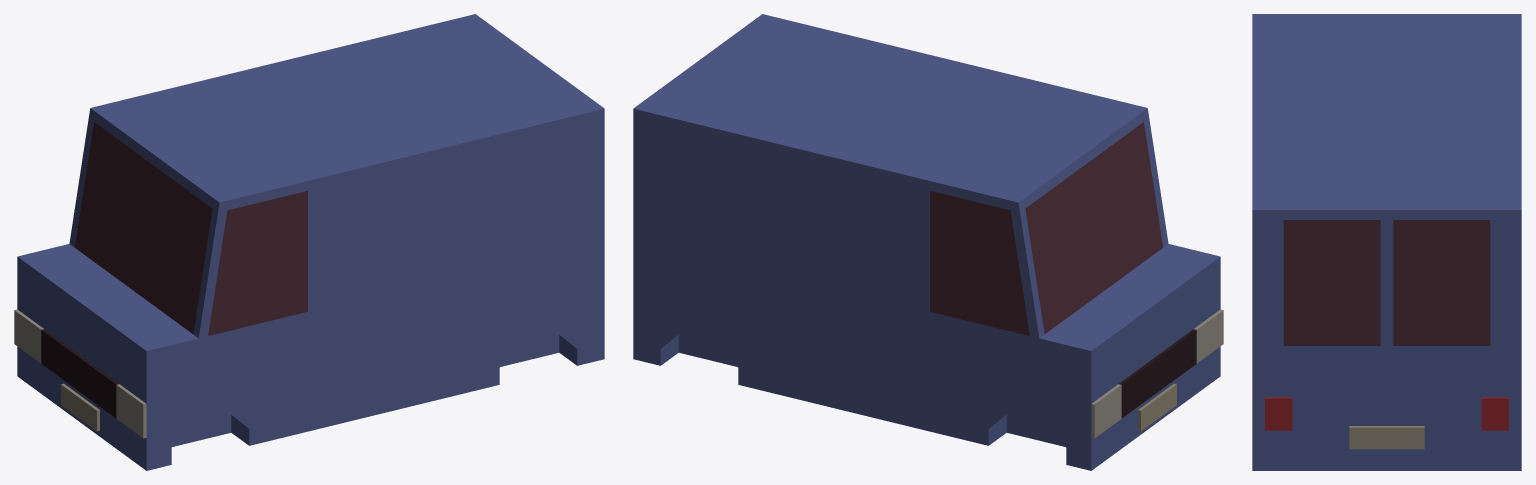
The model's file is Van_Blue.fbx.
3 renders of one model, left to right at view 1: azimuth 30°, elevation 25°; view 2: azimuth 150°, elevation 25°; view 3: azimuth 270°, elevation 25°, orthographic. The views are drawn at different scales.
Parts seen in each view (by area): view 1: Van_Blue, Van_Lights; view 2: Van_Blue, Van_Lights; view 3: Van_Blue, Van_Lights.
Boxes of the visible parts, x1,y1,x2,y2 form: Van_Blue: (17,14,604,470); Van_Lights: (14,309,146,438); Van_Blue: (633,14,1220,470); Van_Lights: (1091,309,1223,438); Van_Blue: (1252,14,1521,470); Van_Lights: (1265,397,1508,430).
Size of the model in its own units: 4.46 by 2.3 by 2.15.
